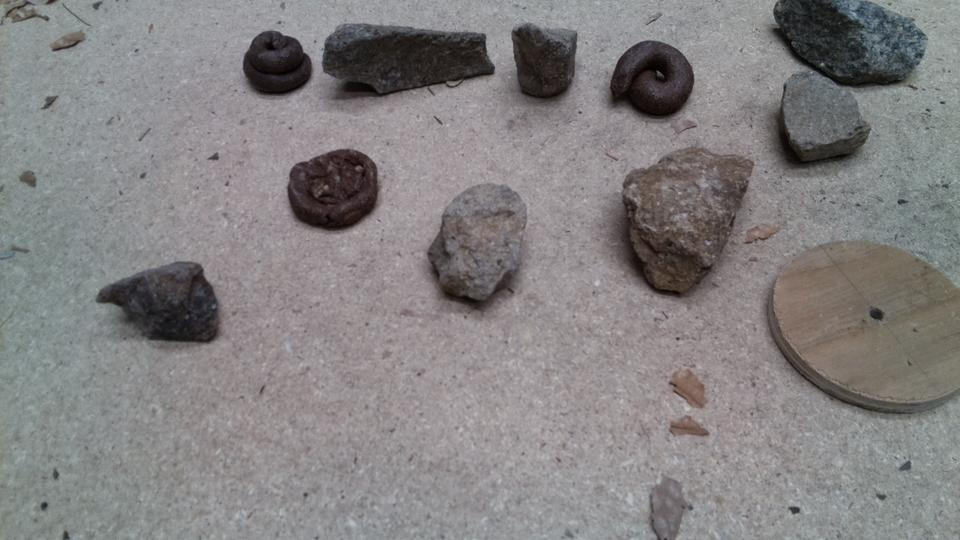poop: (631, 58, 733, 140), (247, 126, 331, 203)
